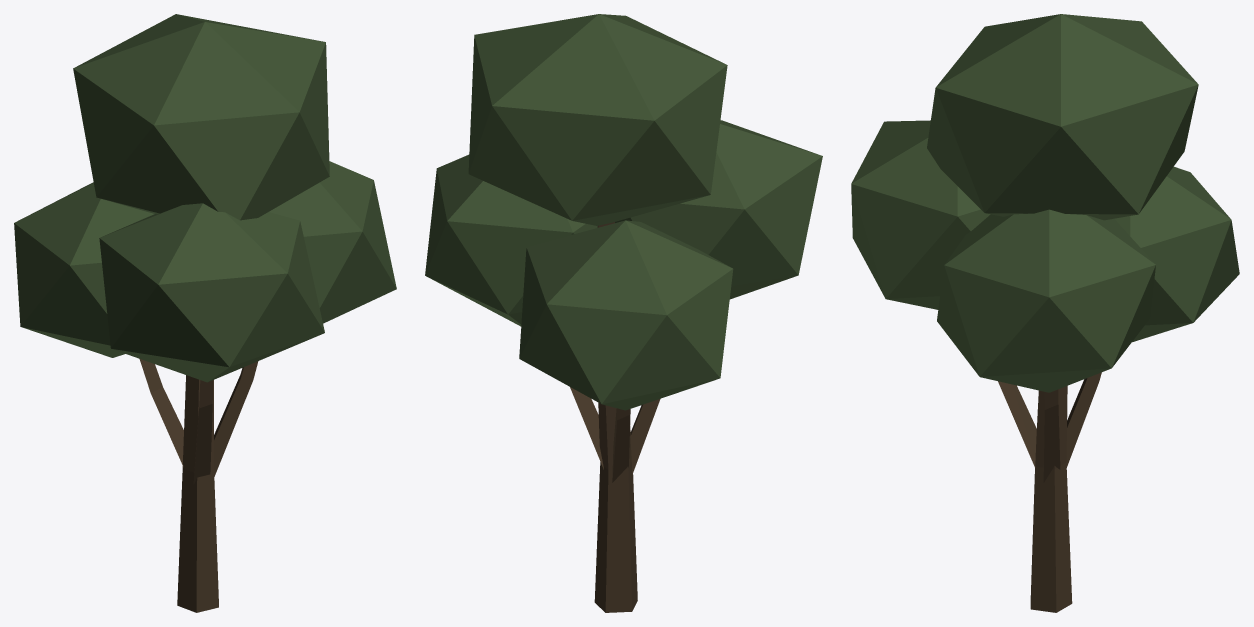
The model's file is flora_broad_mid.glb.
3 views of the same model, side by side, from view 1: azimuth 30°, elevation 25°; view 2: azimuth 150°, elevation 25°; view 3: azimuth 270°, elevation 25° (orthographic). The views are drawn at different scales.
Visible parts, largest first — view 1: FLORA_BroadCrown_Mid, FLORA_BroadTrunk_Mid; view 2: FLORA_BroadCrown_Mid, FLORA_BroadTrunk_Mid; view 3: FLORA_BroadCrown_Mid, FLORA_BroadTrunk_Mid.
Boxes of the visible parts, box(x1,y1,x2,y2) form: FLORA_BroadCrown_Mid: box(14, 14, 396, 382); FLORA_BroadTrunk_Mid: box(139, 359, 258, 612); FLORA_BroadCrown_Mid: box(425, 14, 822, 410); FLORA_BroadTrunk_Mid: box(570, 222, 660, 612); FLORA_BroadCrown_Mid: box(851, 14, 1239, 392); FLORA_BroadTrunk_Mid: box(998, 372, 1101, 612).
Size of the model in its own units: 17.18 by 30 by 17.74.
